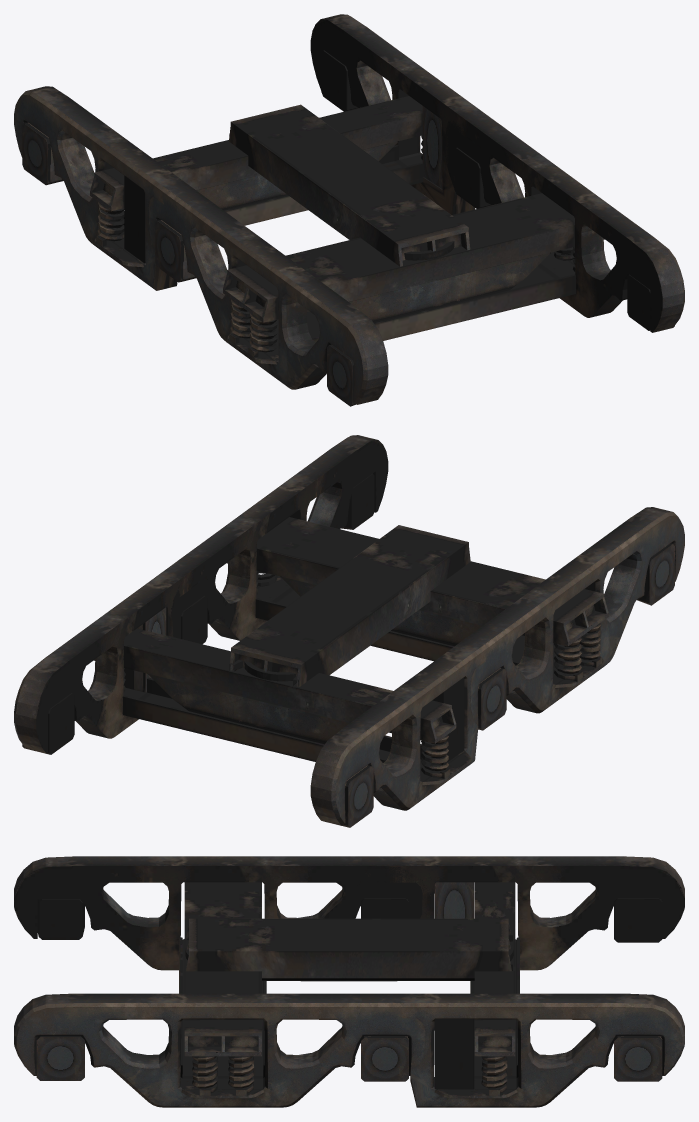
Rendered from Bogie3a.fbx.
3 renders of one model, top to bottom at view 1: azimuth 30°, elevation 25°; view 2: azimuth 150°, elevation 25°; view 3: azimuth 270°, elevation 25°, orthographic. The views are drawn at different scales.
Visible parts, largest first — view 1: bogie2_LOD0.003, bogie2_LOD0.002, bogie2_LOD0.001; view 2: bogie2_LOD0.003, bogie2_LOD0.002, bogie2_LOD0.001; view 3: bogie2_LOD0.003, bogie2_LOD0.001, bogie2_LOD0.002.
Boxes of the visible parts, x1=… form: bogie2_LOD0.003: x1=14, y1=14, x2=684, y2=406; bogie2_LOD0.002: x1=124, y1=175, x2=145, y2=263; bogie2_LOD0.001: x1=422, y1=106, x2=442, y2=188; bogie2_LOD0.003: x1=14, y1=435, x2=684, y2=827; bogie2_LOD0.002: x1=421, y1=677, x2=464, y2=762; bogie2_LOD0.001: x1=124, y1=607, x2=166, y2=692; bogie2_LOD0.003: x1=14, y1=856, x2=684, y2=1107; bogie2_LOD0.001: x1=434, y1=1018, x2=474, y2=1089; bogie2_LOD0.002: x1=434, y1=882, x2=474, y2=918.
Size of the model in its own units: 234 by 70.46 by 410.
